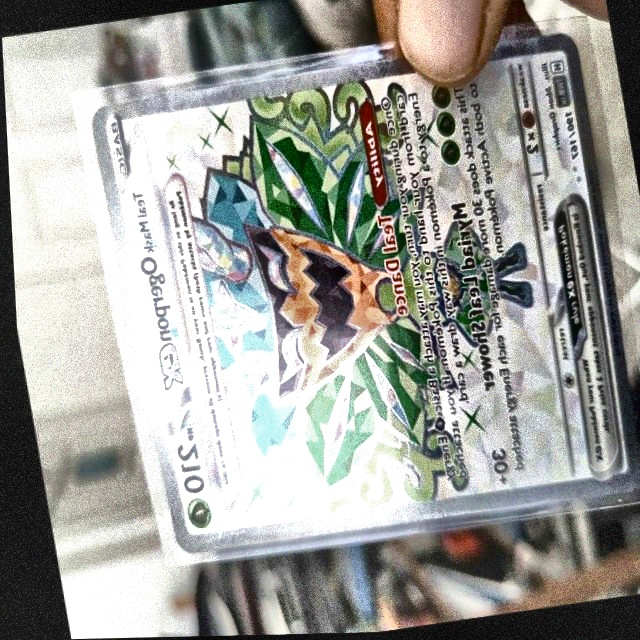card: (86, 33, 637, 558)
